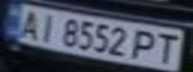2: (106, 24, 133, 58)
5: (90, 21, 112, 55), (75, 19, 96, 52)
8: (57, 16, 81, 48)
A: (12, 7, 45, 39)
I: (33, 11, 63, 43)
P: (127, 27, 163, 62)
T: (151, 30, 184, 65)
